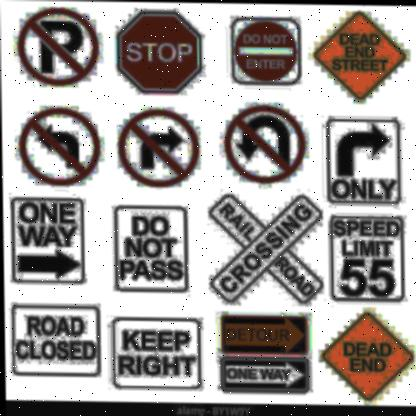No U-turn: (220, 99, 310, 181)
